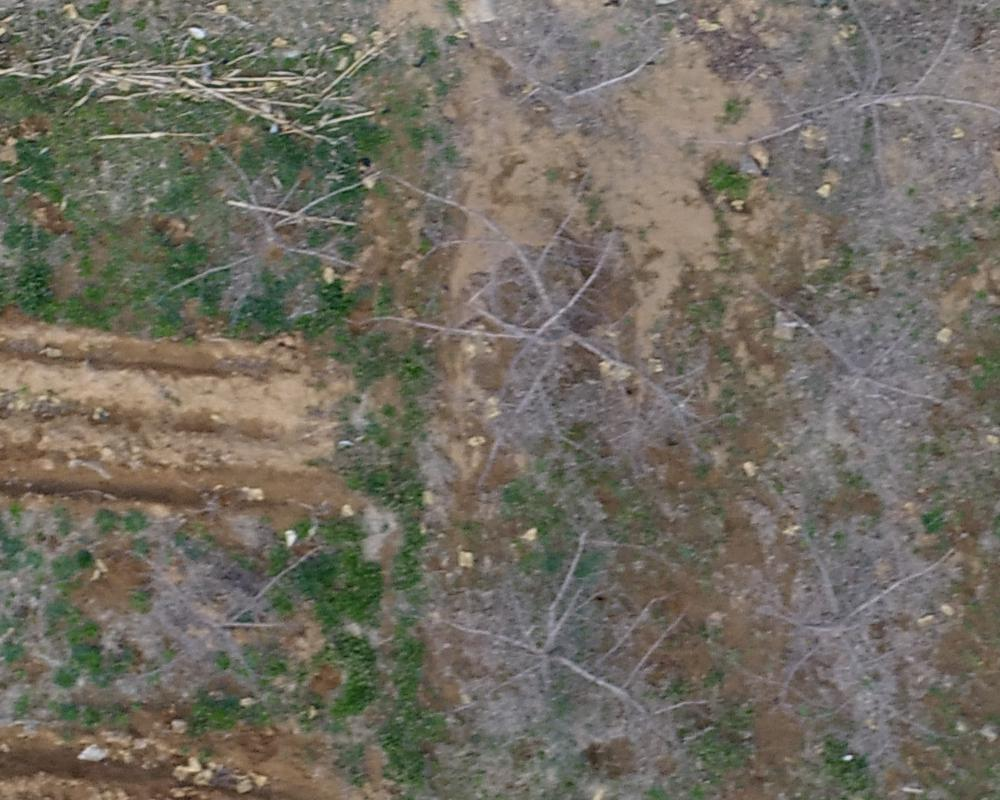apple: (369, 177, 699, 490), (391, 514, 713, 755), (716, 520, 973, 706), (170, 138, 387, 347), (757, 10, 990, 185), (754, 294, 990, 464), (149, 511, 358, 700)
